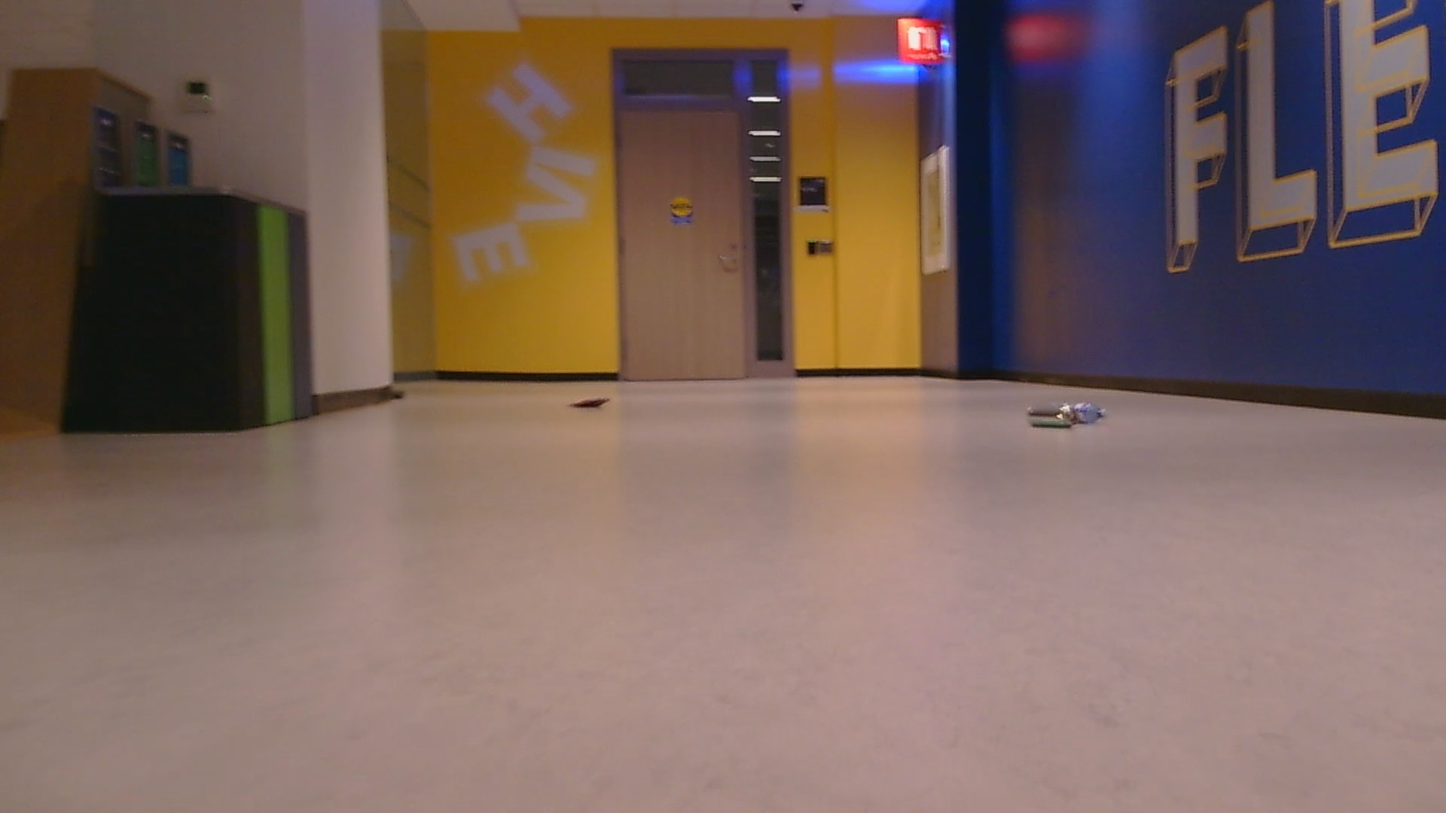can: (1026, 399, 1111, 431), (566, 391, 616, 410)
